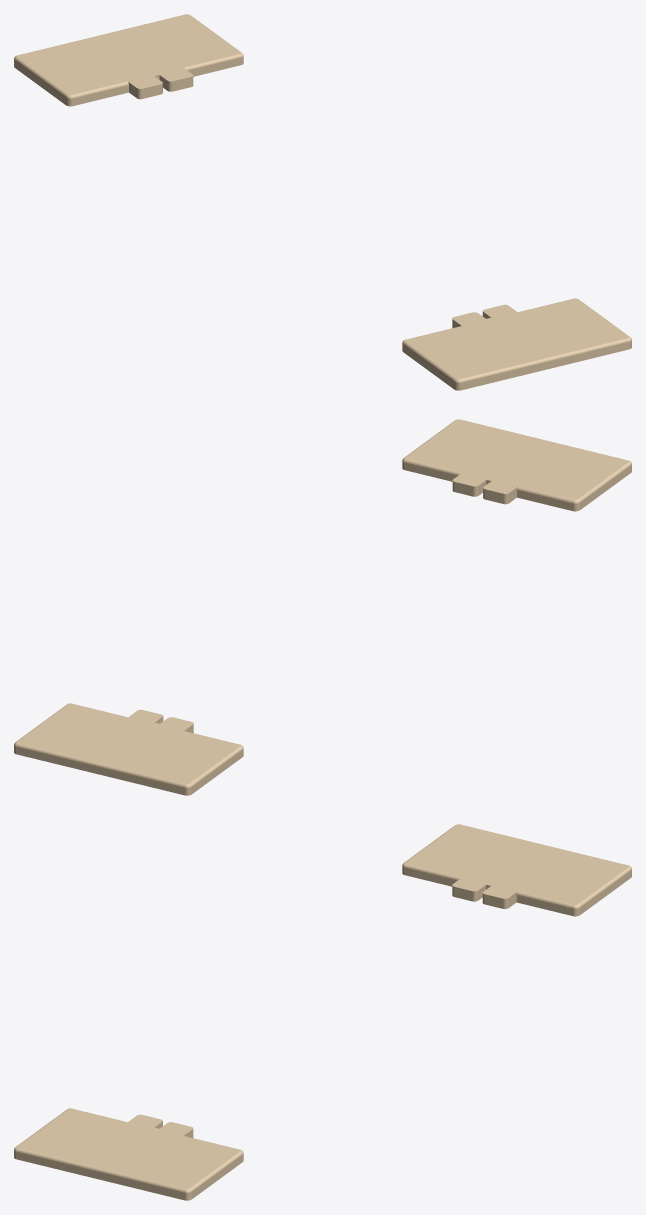
File: ergoflex-side-shelf-large-pair.glb
The picture shows the model from 3 angles, top to bottom: view 1: azimuth 30°, elevation 25°; view 2: azimuth 150°, elevation 25°; view 3: azimuth 330°, elevation 25°; orthographic projection.
Visible parts, largest first — view 1: Side shelf wood; view 2: Side shelf wood; view 3: Side shelf wood.
Boxes of the visible parts, x1=… form: Side shelf wood: x1=14, y1=14, x2=631, y2=390; Side shelf wood: x1=14, y1=419, x2=631, y2=795; Side shelf wood: x1=14, y1=824, x2=631, y2=1200.
Bounding box in the file's own units: 0.3241 × 0.0181 × 1.41.
